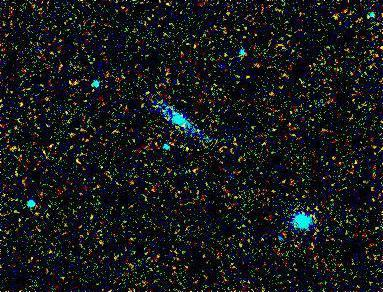star: (61, 67, 91, 97)
